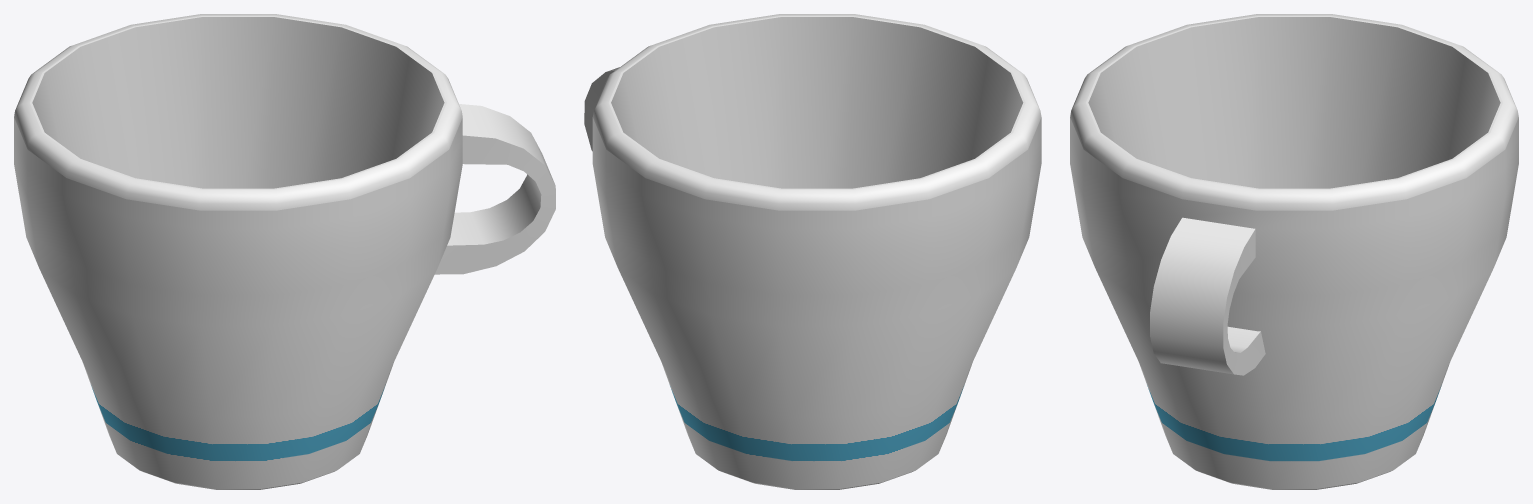
Rendered from Cup 1.FBX.
3 views of the same model, side by side, from view 1: azimuth 30°, elevation 25°; view 2: azimuth 150°, elevation 25°; view 3: azimuth 270°, elevation 25° (orthographic).
Parts seen in each view (by area): view 1: cup 1; view 2: cup 1; view 3: cup 1.
Part boxes in pixels (box(x1,y1,x2,y2)): cup 1: box(14, 14, 555, 489); cup 1: box(584, 14, 1041, 489); cup 1: box(1070, 14, 1518, 489).
Size of the model in its own units: 14.16 by 9.87 by 11.97.
1 material, 1 textured.
